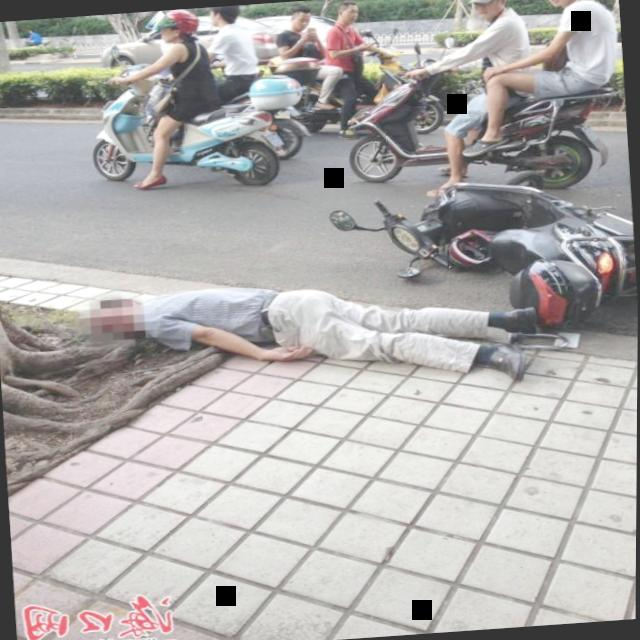Fall-Detected: (75, 240, 557, 408)
